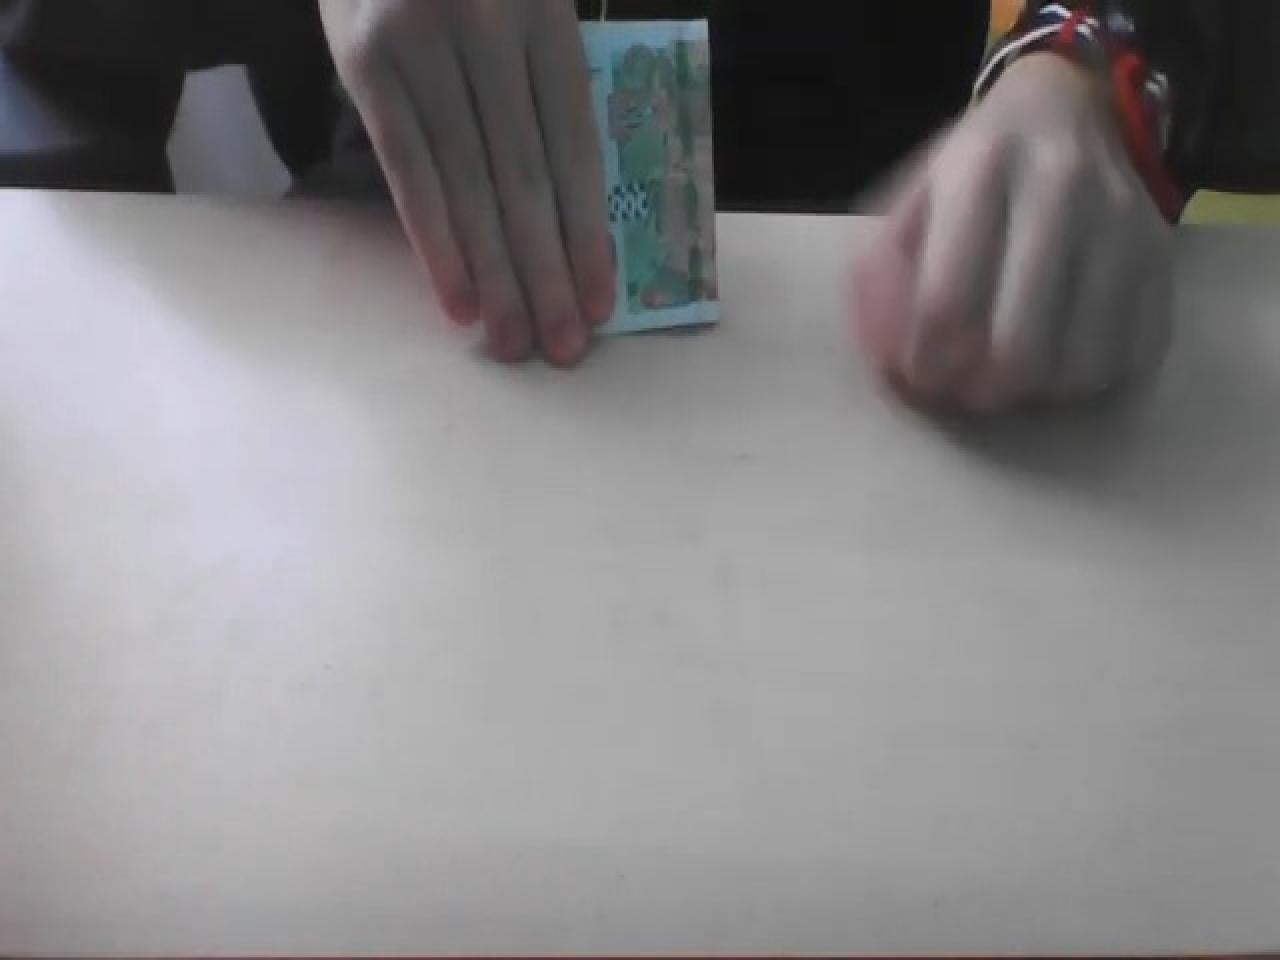100leva: (577, 0, 722, 339)
